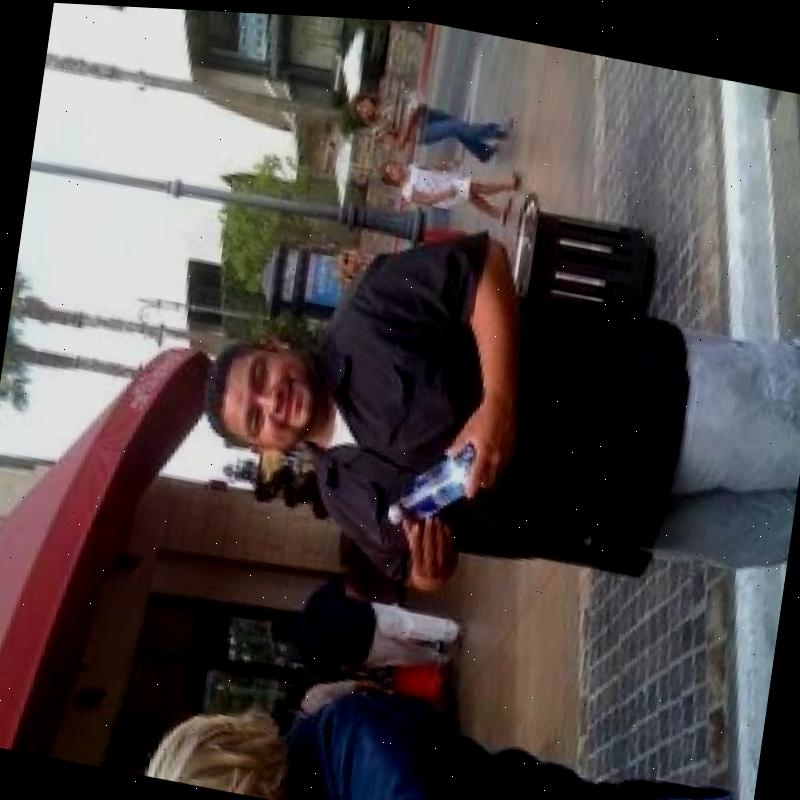botella: (384, 431, 476, 536)
